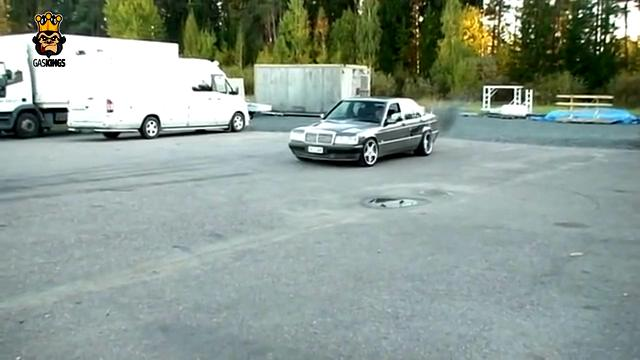smoke: (437, 99, 472, 135)
